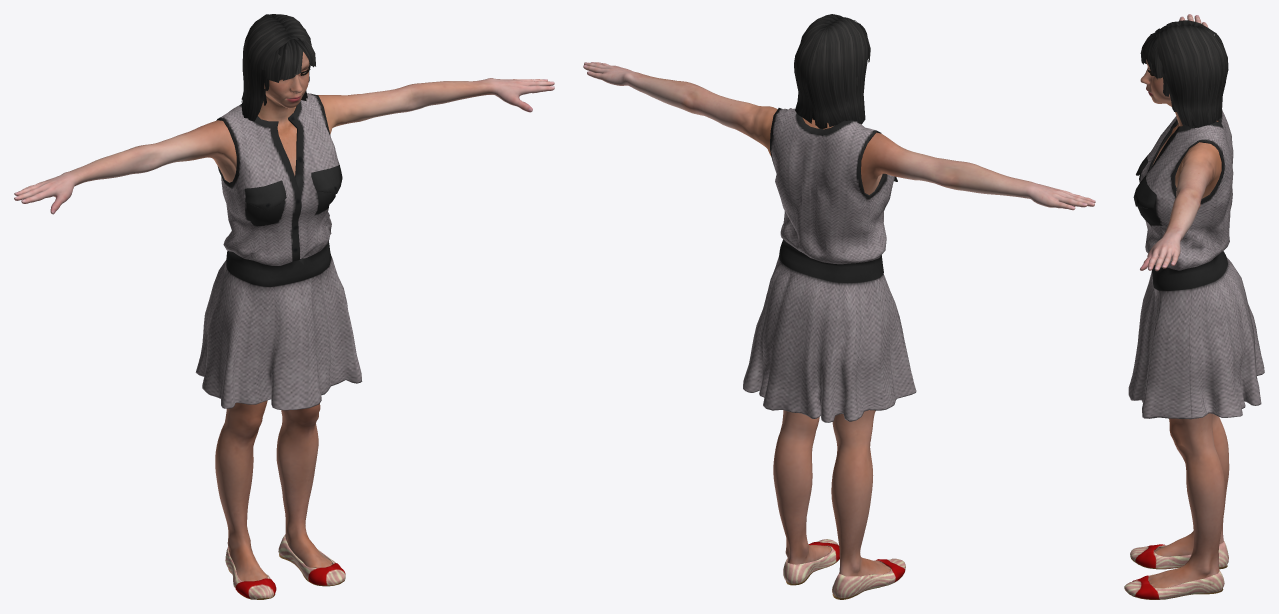
The picture shows the model from 3 angles, left to right: view 1: azimuth 30°, elevation 25°; view 2: azimuth 150°, elevation 25°; view 3: azimuth 270°, elevation 25°; orthographic projection.
Visible parts, largest first — view 1: Tops, Body, Hair, Shoes; view 2: Tops, Body, Hair, Shoes; view 3: Tops, Body, Hair, Shoes.
Boxes of the visible parts, x1,y1,x2,y2 form: Tops: [195, 93, 362, 410]; Body: [14, 52, 554, 581]; Hair: [241, 14, 315, 121]; Shoes: [225, 534, 345, 599]; Tops: [743, 108, 916, 422]; Body: [583, 62, 1095, 576]; Hair: [794, 14, 870, 129]; Shoes: [783, 539, 905, 599]; Tops: [1128, 111, 1264, 419]; Body: [1140, 14, 1229, 588]; Hair: [1140, 20, 1228, 128]; Shoes: [1124, 541, 1228, 599].
Bounding box in the file's own units: 166 × 168 × 38.57.
1 material, 1 textured.
